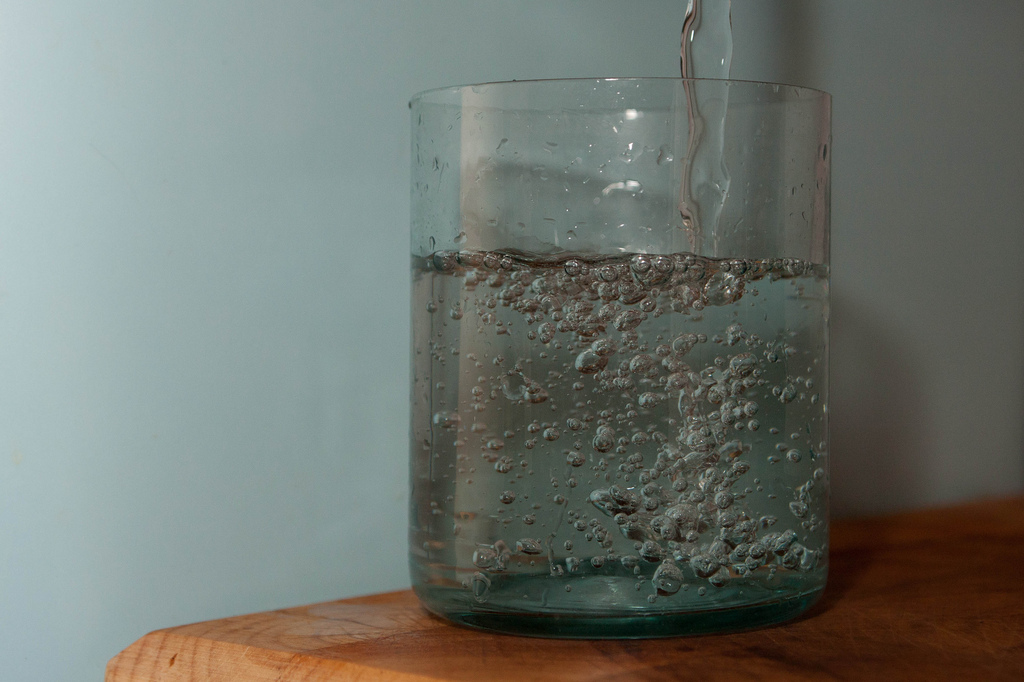glass of water: (400, 72, 841, 623)
